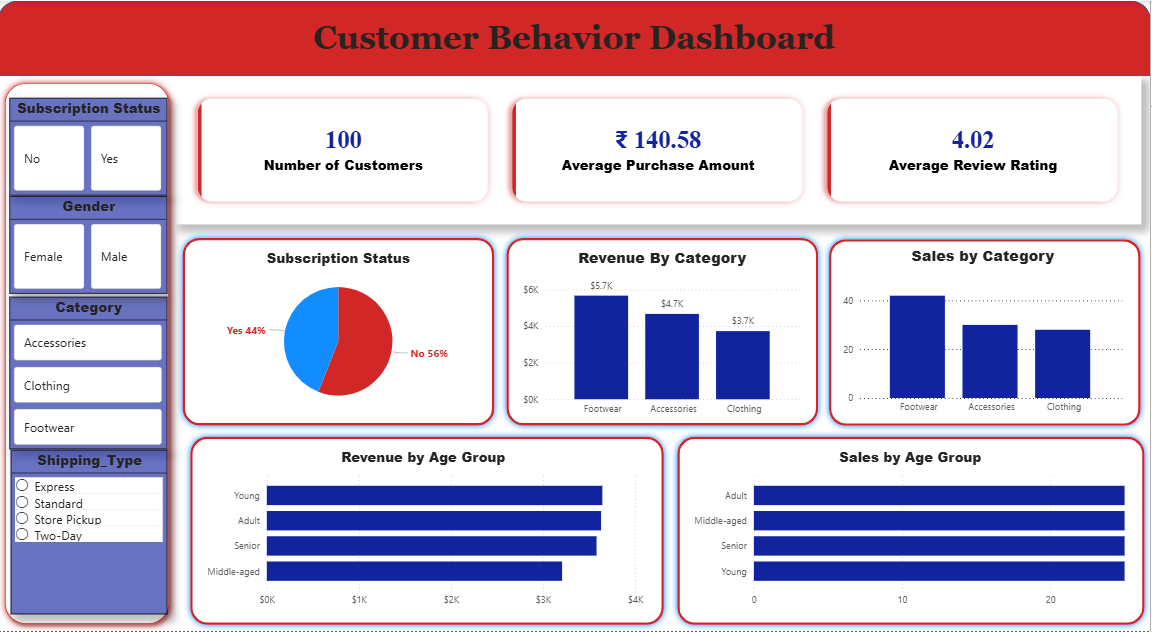

Layout of this report page (visuals, bound fields, positions):
{"tool":"powerbi","page":{"name":"Page 1","canvas":[1500,820],"ordinal":0},"visuals":[{"type":"cardVisual","fields":{"Data":["public customer.Number of Customers","public customer.Average Purchase Amount","public customer.Average Review Rating"]},"box":[230.8,98,1258.4,192.6],"z":0},{"type":"shape","box":[0,0,1500.8,98],"z":1000},{"type":"textbox","box":[0,18.3,1500.8,64.7],"z":2000},{"type":"shape","box":[231.8,300.2,421.9,260.1],"z":3000},{"type":"shape","box":[653.7,300.2,421.9,260.1],"z":4000},{"type":"shape","box":[1074.1,302.2,421.7,259],"z":5000},{"type":"clusteredColumnChart","title":"Revenue By Category","fields":{"Y":["Sum(public customer.Purchase_Amount)"],"Category":["public customer.Category"]},"box":[678.7,320.2,371.9,228.5],"z":6000},{"type":"clusteredColumnChart","title":"Sales by Category","fields":{"Y":["CountNonNull(public customer.Customer_ID)"],"Category":["public customer.Category"]},"box":[1095.6,318.5,373.5,228.5],"z":7000},{"type":"shape","box":[0,98.4,231.8,722],"z":8000},{"type":"advancedSlicerVisual","title":"Subscription Status","fields":{"Values":["public customer.Subscription_Status"]},"box":[15,126.7,205.1,126.7],"z":9000},{"type":"advancedSlicerVisual","title":"Category","fields":{"Values":["public customer.Category"]},"box":[15,385.2,205.1,198.4],"z":10000},{"type":"listSlicer","fields":{"Values":["public customer.Shipping_Type"]},"box":[16.6,584.4,204.2,214.2],"z":11000},{"type":"shape","box":[242.4,559.4,632.5,260.6],"z":12000},{"type":"clusteredBarChart","title":"Revenue by Age Group","fields":{"Y":["Sum(public customer.Purchase_Amount)"],"Category":["public customer.Age_Group"]},"box":[262.3,581.1,582.7,217.5],"z":13000},{"type":"pieChart","title":"Subscription Status","fields":{"Category":["public customer.Subscription_Status"],"Y":["public customer.Number of Customers"]},"box":[261.8,321.8,361.9,218.4],"z":14000},{"type":"advancedSlicerVisual","title":"Gender","fields":{"Values":["public customer.Gender"]},"box":[15,253.5,205.1,126.7],"z":15000},{"type":"shape","box":[876.6,559.5,624.2,260.6],"z":16000},{"type":"clusteredBarChart","title":"Sales by Age Group","fields":{"Y":["CountNonNull(public customer.Customer_ID)"],"Category":["public customer.Age_Group"]},"box":[896.5,581.1,582.7,217.5],"z":17000}]}

Visuals, with their boxes in screenshot pixels (x1, y1, x2, y2), scaled from the page's 1500x820 canvas onto the 1152x632 screenshot:
cardVisual - public customer.Number of Customers x public customer.Average Purchase Amount: (177, 76, 1144, 224)
shape: (0, 0, 1151, 76)
textbox: (0, 14, 1151, 64)
shape: (178, 231, 502, 432)
shape: (502, 231, 826, 432)
shape: (825, 233, 1149, 433)
"Revenue By Category" clusteredColumnChart: (521, 247, 807, 423)
"Sales by Category" clusteredColumnChart: (841, 245, 1128, 422)
shape: (0, 76, 178, 631)
"Subscription Status" advancedSlicerVisual: (12, 98, 169, 195)
"Category" advancedSlicerVisual: (12, 297, 169, 450)
listSlicer - public customer.Shipping_Type: (13, 450, 170, 616)
shape: (186, 431, 672, 631)
"Revenue by Age Group" clusteredBarChart: (201, 448, 649, 616)
"Subscription Status" pieChart: (201, 248, 479, 416)
"Gender" advancedSlicerVisual: (12, 195, 169, 293)
shape: (673, 431, 1151, 631)
"Sales by Age Group" clusteredBarChart: (689, 448, 1136, 616)
